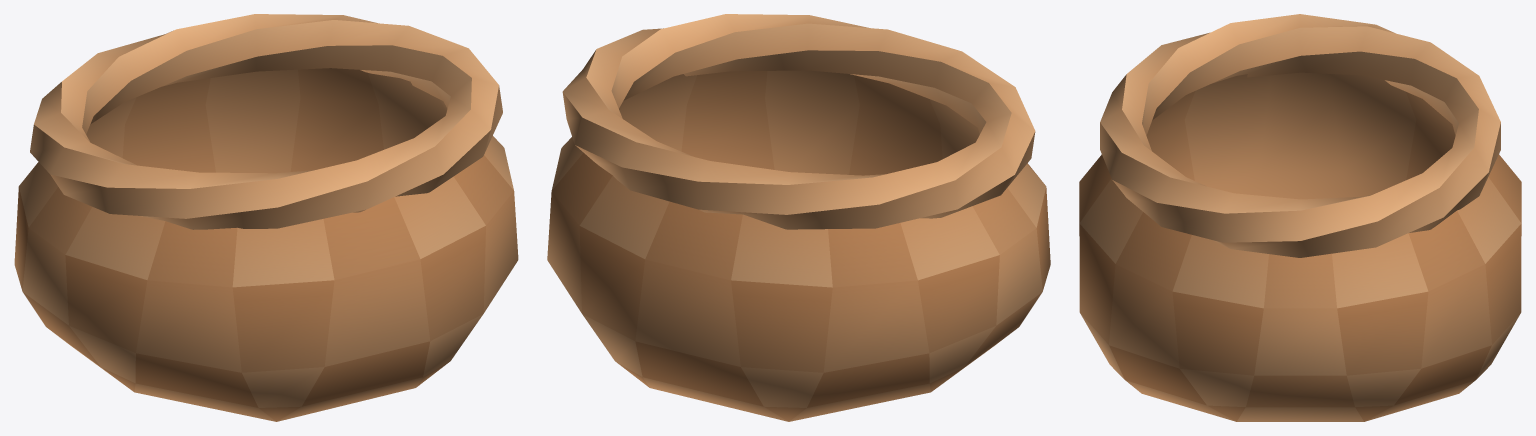
File: Basket.obj
3 views of the same model, side by side, from view 1: azimuth 30°, elevation 25°; view 2: azimuth 150°, elevation 25°; view 3: azimuth 270°, elevation 25° (orthographic).
Parts seen in each view (by area): view 1: Basket; view 2: Basket; view 3: Basket.
Part boxes in pixels (box(x1,y1,x2,y2)): Basket: box(14, 14, 518, 421); Basket: box(547, 14, 1050, 421); Basket: box(1079, 14, 1521, 421).
Size of the model in its own units: 0.639 by 0.3481 by 0.5567.
1 material, 1 textured.
